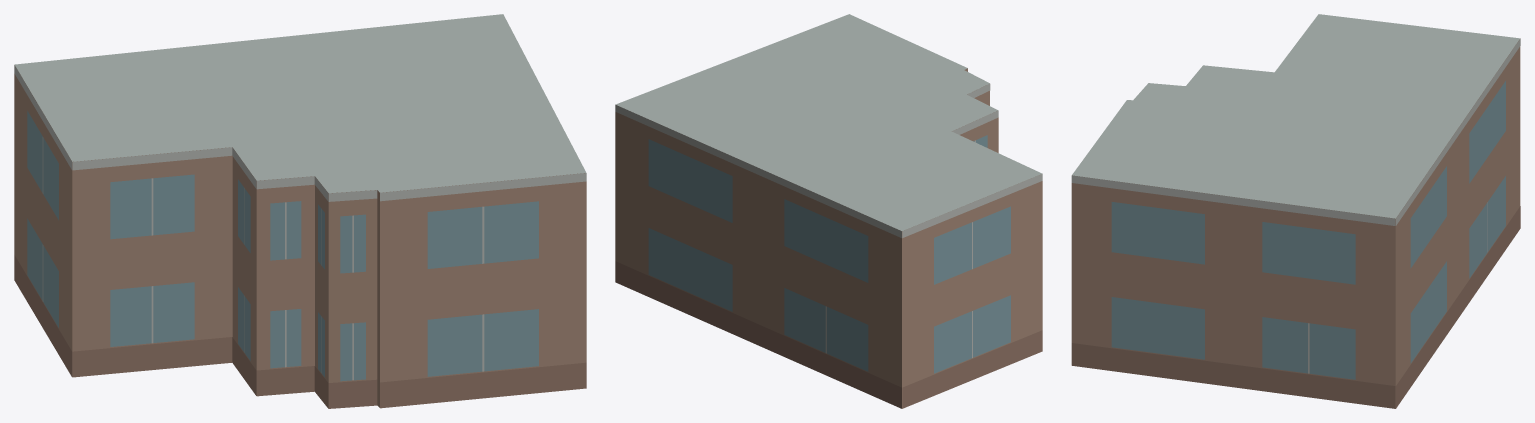
File: survey-upis-32676276.glb
The picture shows the model from 3 angles, left to right: view 1: azimuth 30°, elevation 25°; view 2: azimuth 150°, elevation 25°; view 3: azimuth 270°, elevation 25°; orthographic projection. The views are drawn at different scales.
Parts seen in each view (by area): view 1: survey-upis-32676276.tmp; view 2: survey-upis-32676276.tmp; view 3: survey-upis-32676276.tmp.
Boxes of the visible parts, x1,y1,x2,y2 form: survey-upis-32676276.tmp: (14, 14, 586, 408); survey-upis-32676276.tmp: (615, 14, 1042, 408); survey-upis-32676276.tmp: (1071, 14, 1520, 408).
Size of the model in its own units: 14.07 by 6.1 by 13.04.
